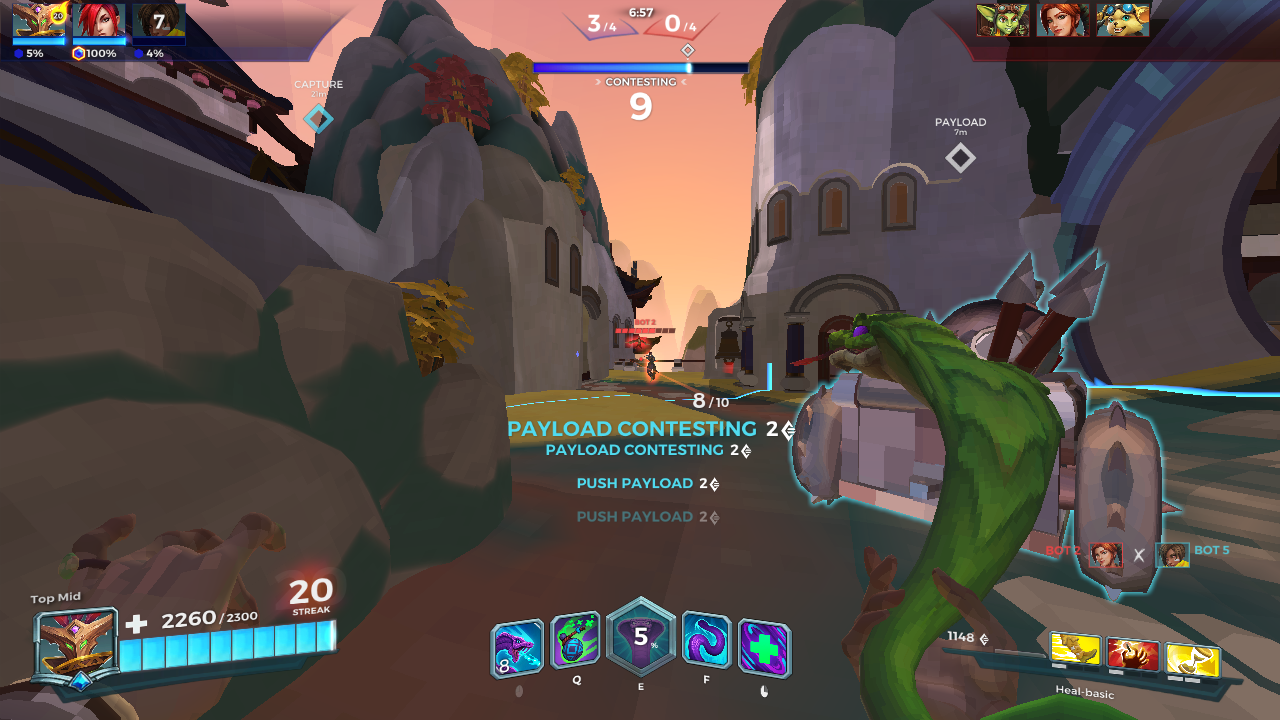model: (646, 345, 664, 380)
